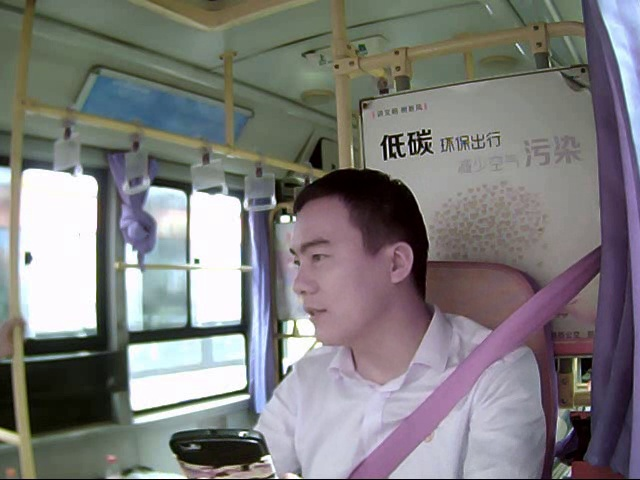closed_mouth: (296, 302, 328, 321)
open_eye: (303, 251, 333, 263)
